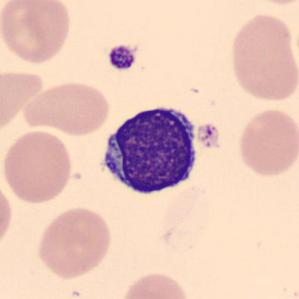Lymphocyte: (94, 98, 202, 200)
Platelets: (105, 43, 138, 72), (197, 121, 224, 153)
RBC: (227, 11, 298, 104), (35, 204, 114, 280), (0, 128, 75, 205), (20, 78, 112, 137), (0, 0, 74, 66), (235, 105, 298, 179), (0, 66, 47, 133), (118, 269, 194, 299), (0, 179, 15, 251)
